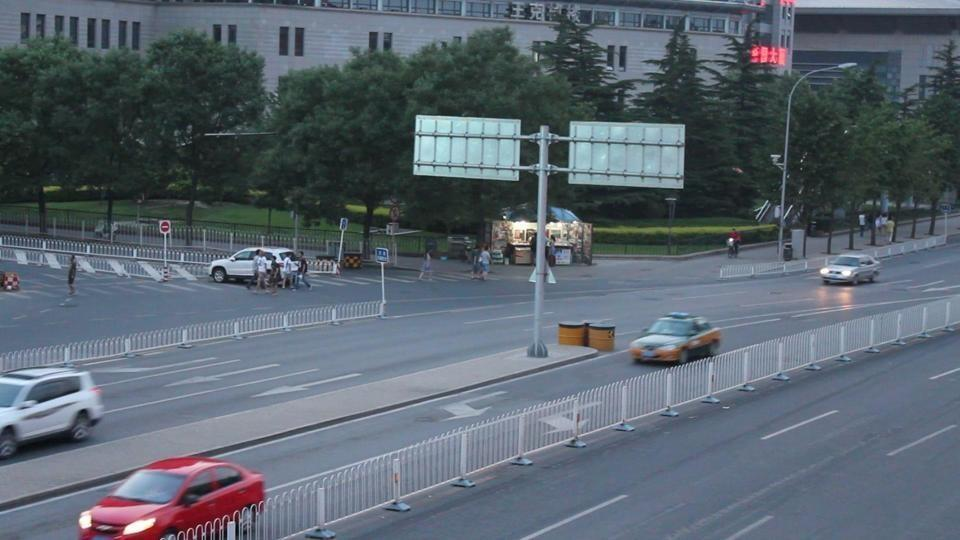car: (74, 454, 267, 539), (0, 366, 105, 460), (629, 312, 723, 366), (208, 247, 304, 284), (819, 251, 882, 285)
